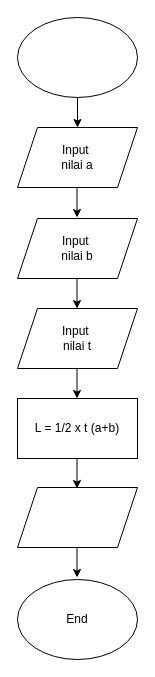
Some shapes in this 155 by 677 pixel diagram are drawn without their labels. Each missing label, with the centre of its shape:
"Output hasil" belongs at (x=77, y=517).
"Start" belongs at (x=77, y=57).
